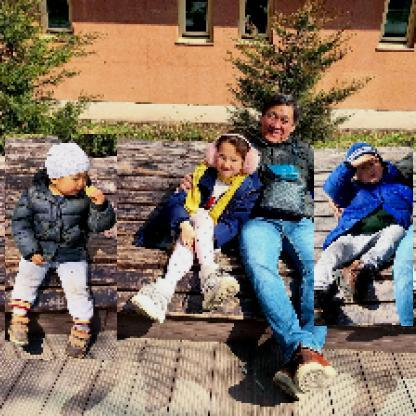child: (127, 130, 265, 321), (6, 135, 119, 361), (315, 142, 415, 328)
